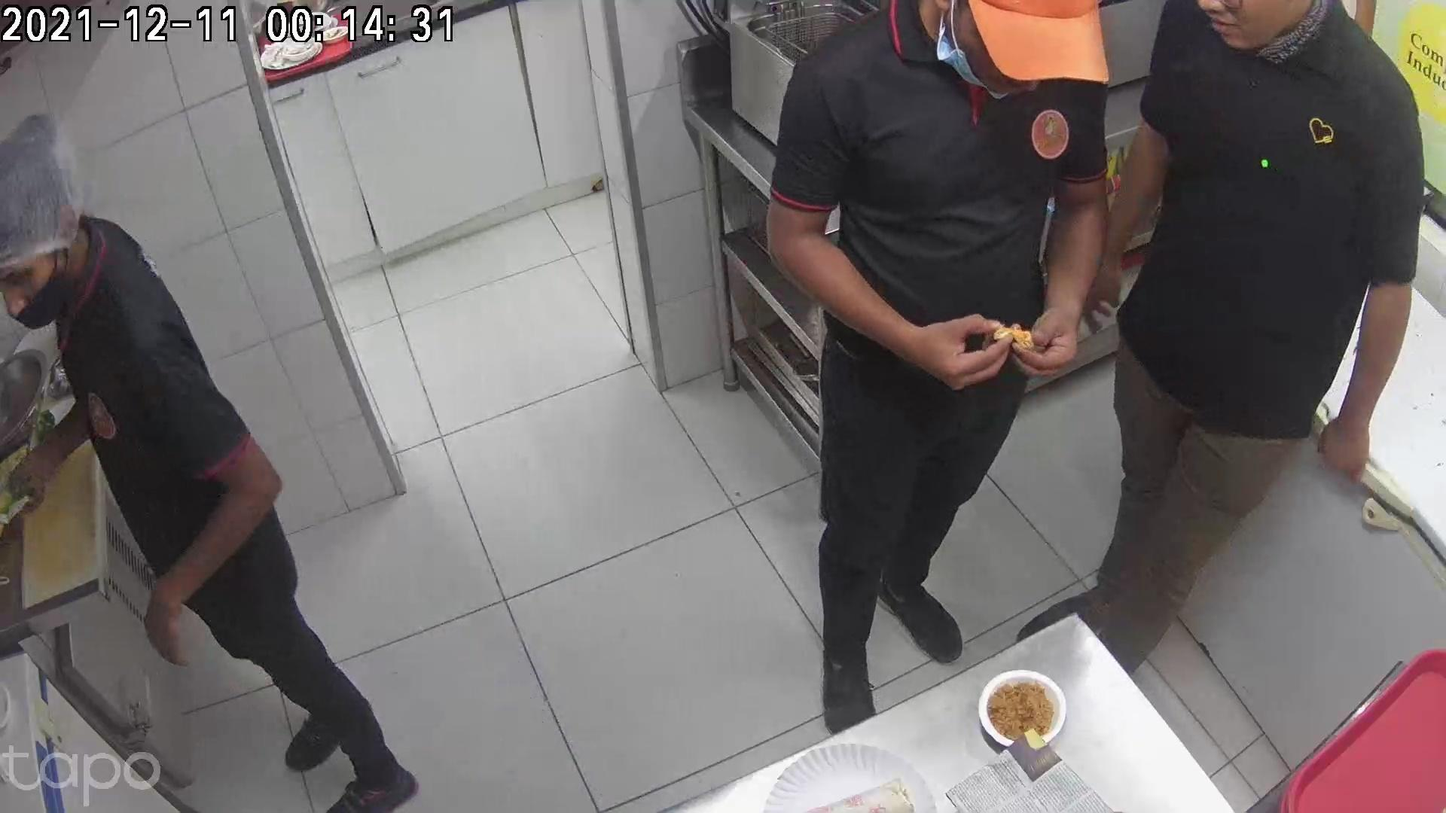gloves: (874, 638, 997, 740)
no_gloves: (1035, 585, 1115, 715)
